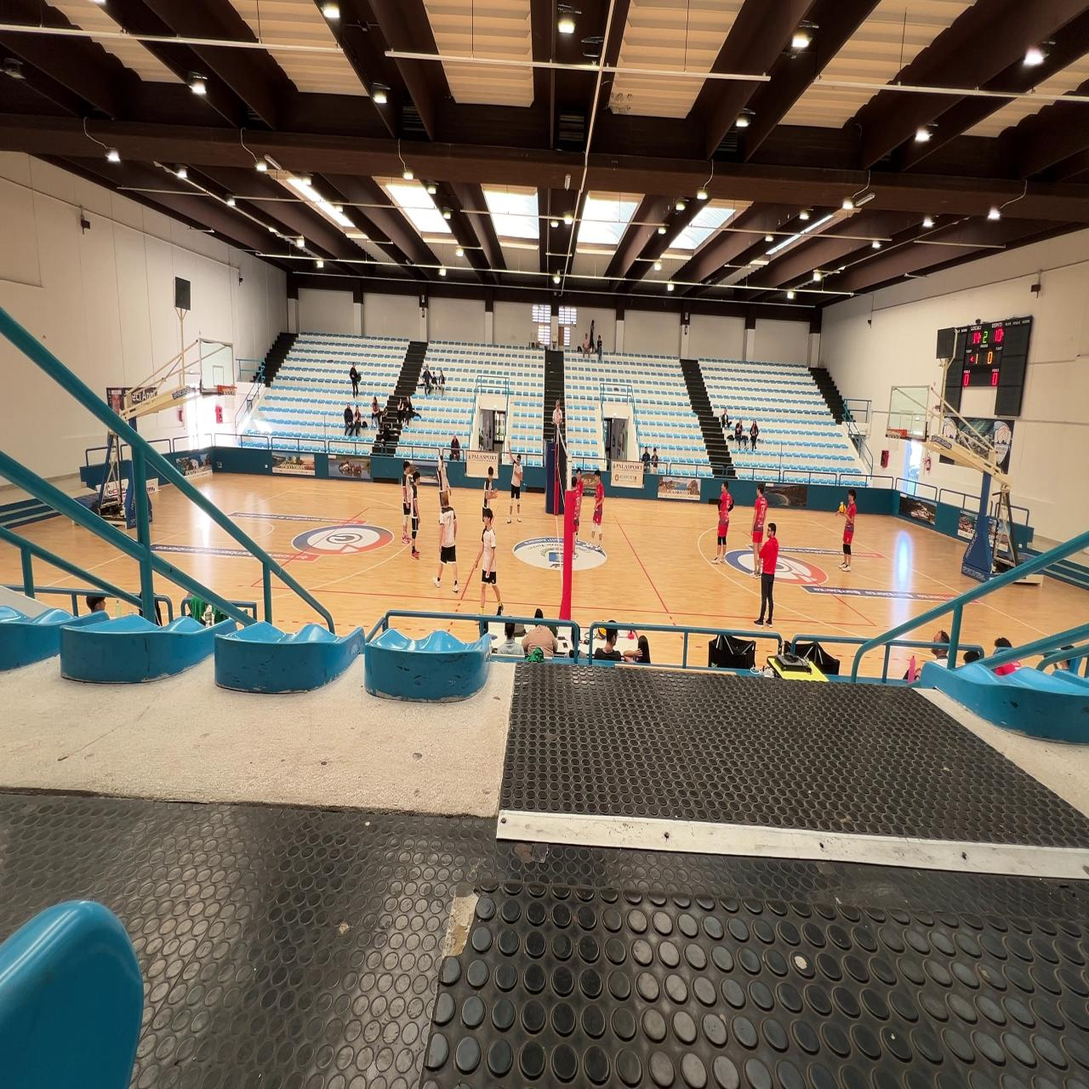ball: (839, 504, 846, 515)
